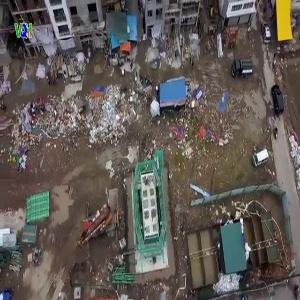drone: (191, 70, 252, 131)
